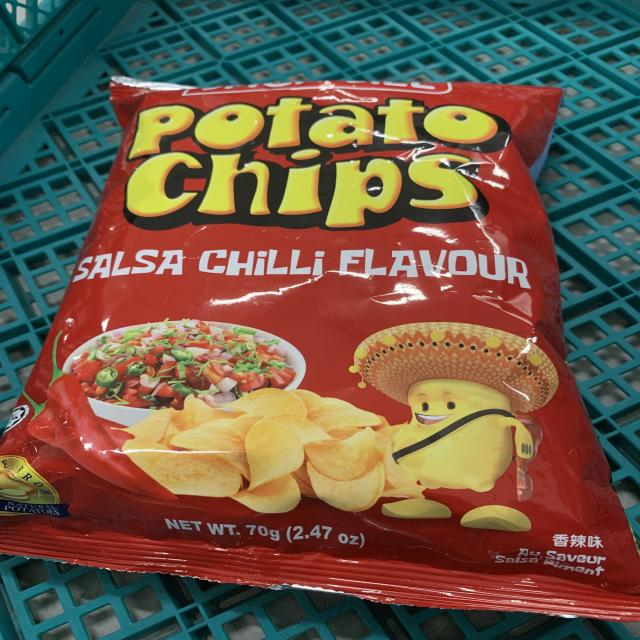object_name: (112, 96, 548, 593)
